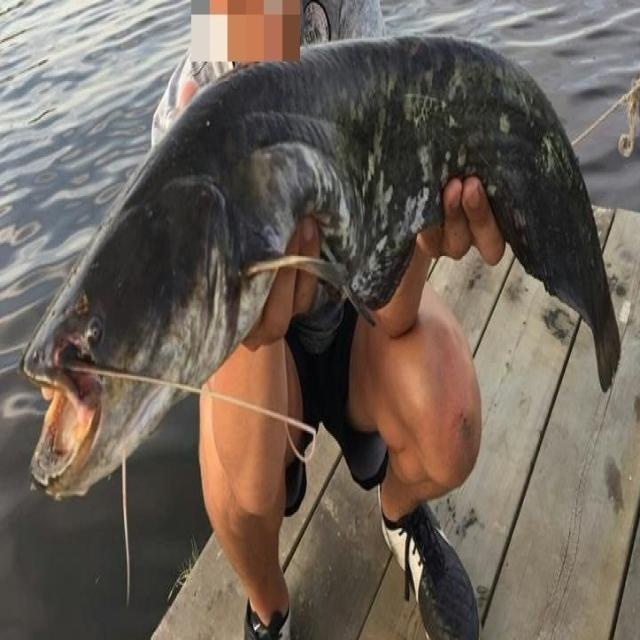Catfish: (8, 24, 624, 582)
